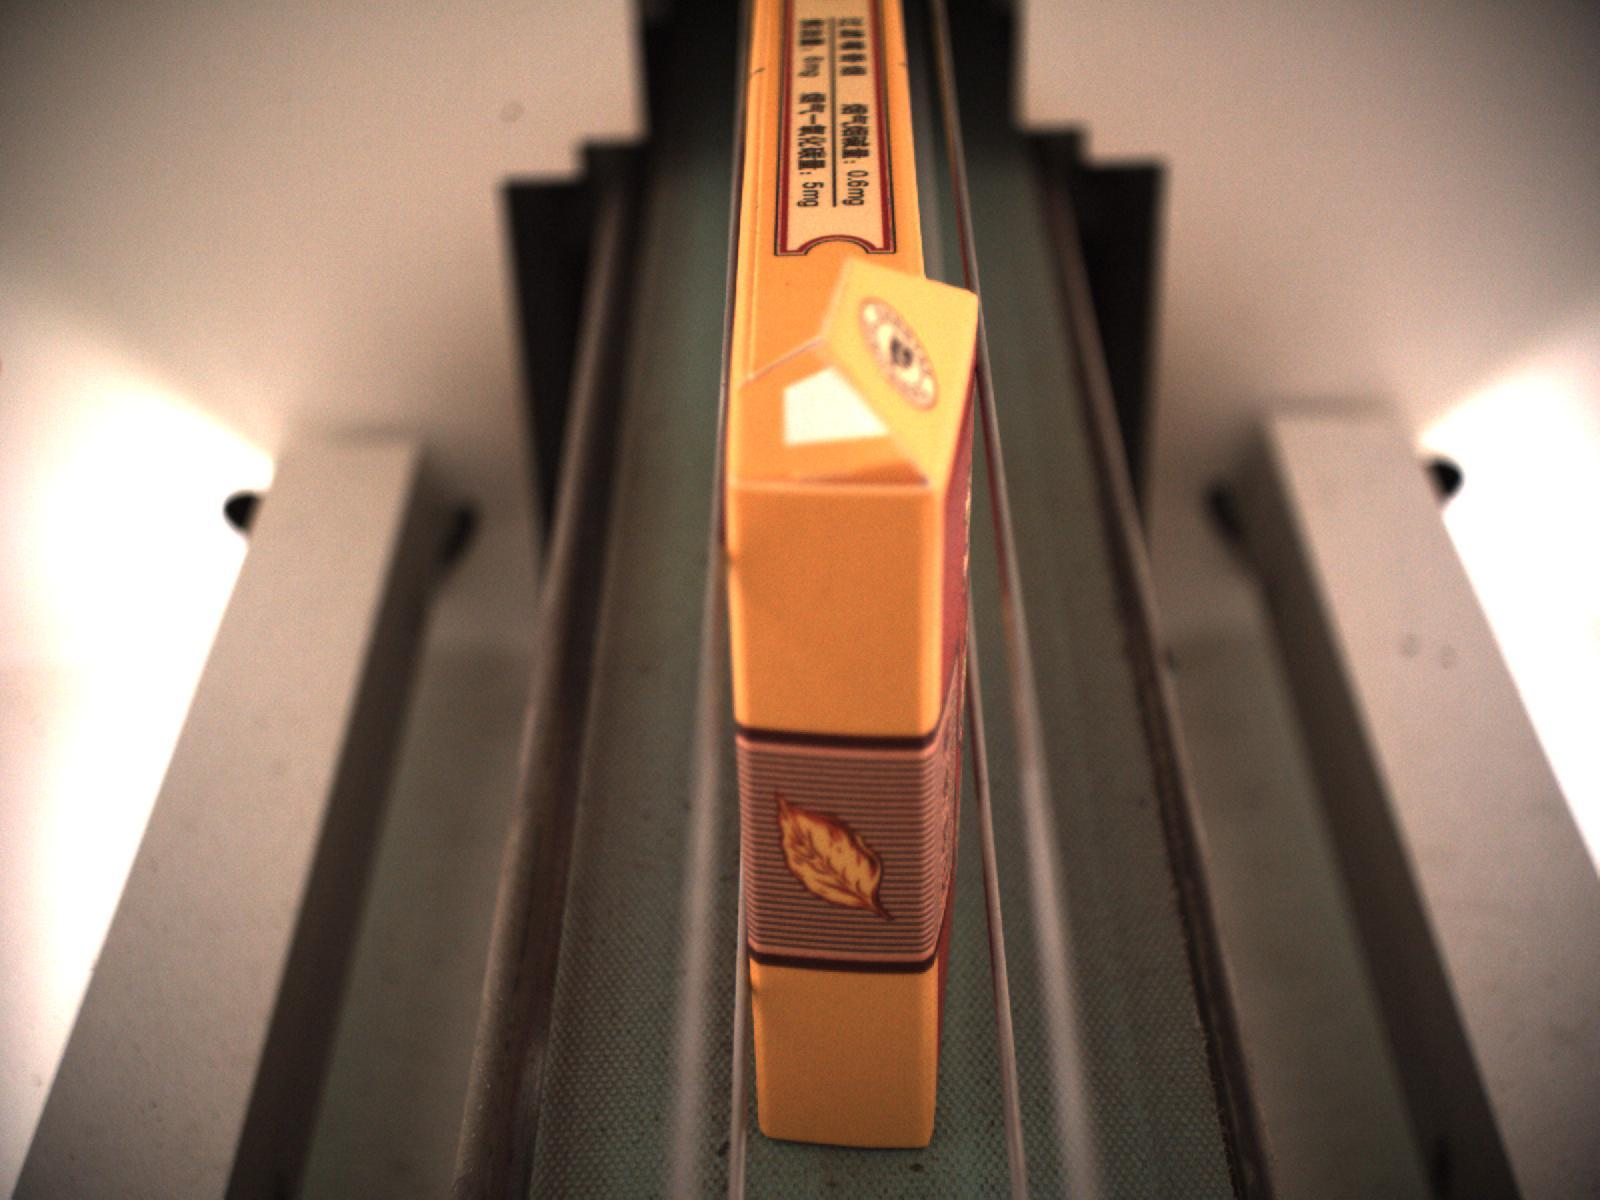headDamage_upper_2: (722, 253, 983, 491)
